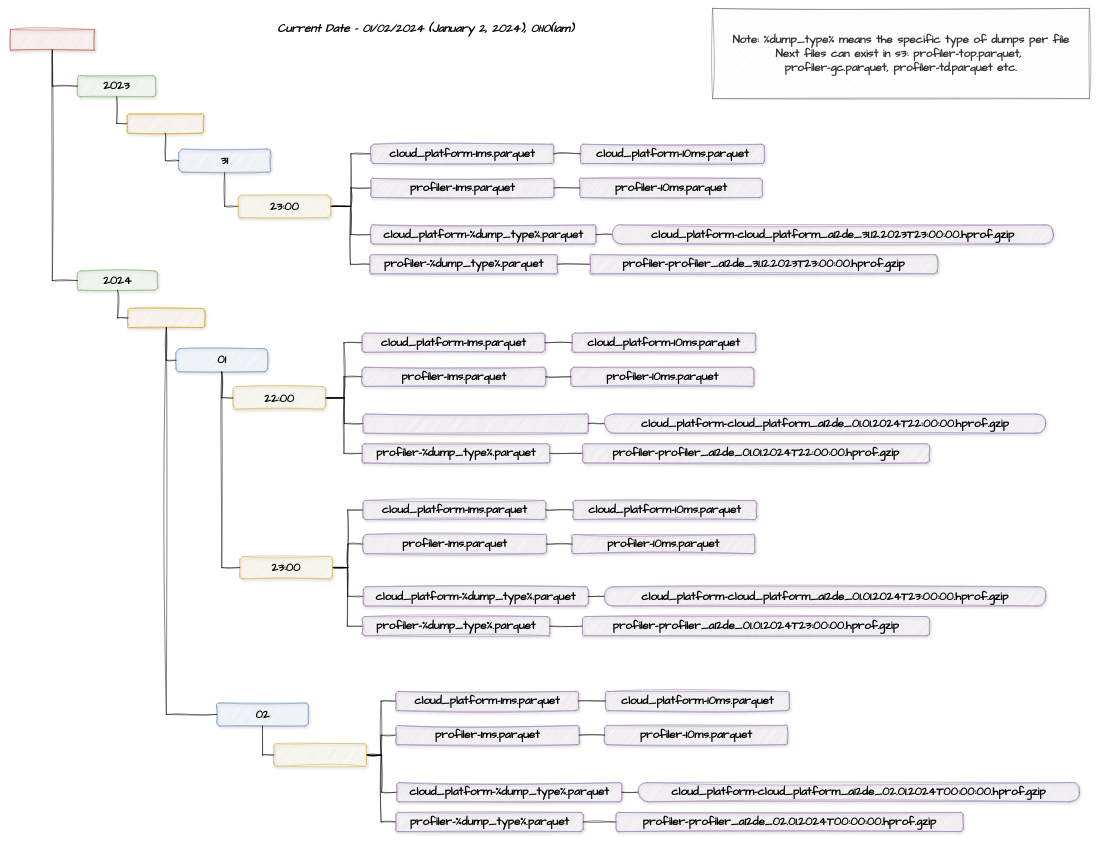
Some shapes in this 1098 by 843 pixel diagram are drawn without their labels. Here are the shapes that lost their labels. From the top down, the centre of each, then its label:
(x=52, y=40): S3 Bucket
(x=166, y=124): December
(x=167, y=318): January
(x=476, y=424): cloud_platform-% dump_type% .parquet
(x=320, y=755): 00:00(12am)
